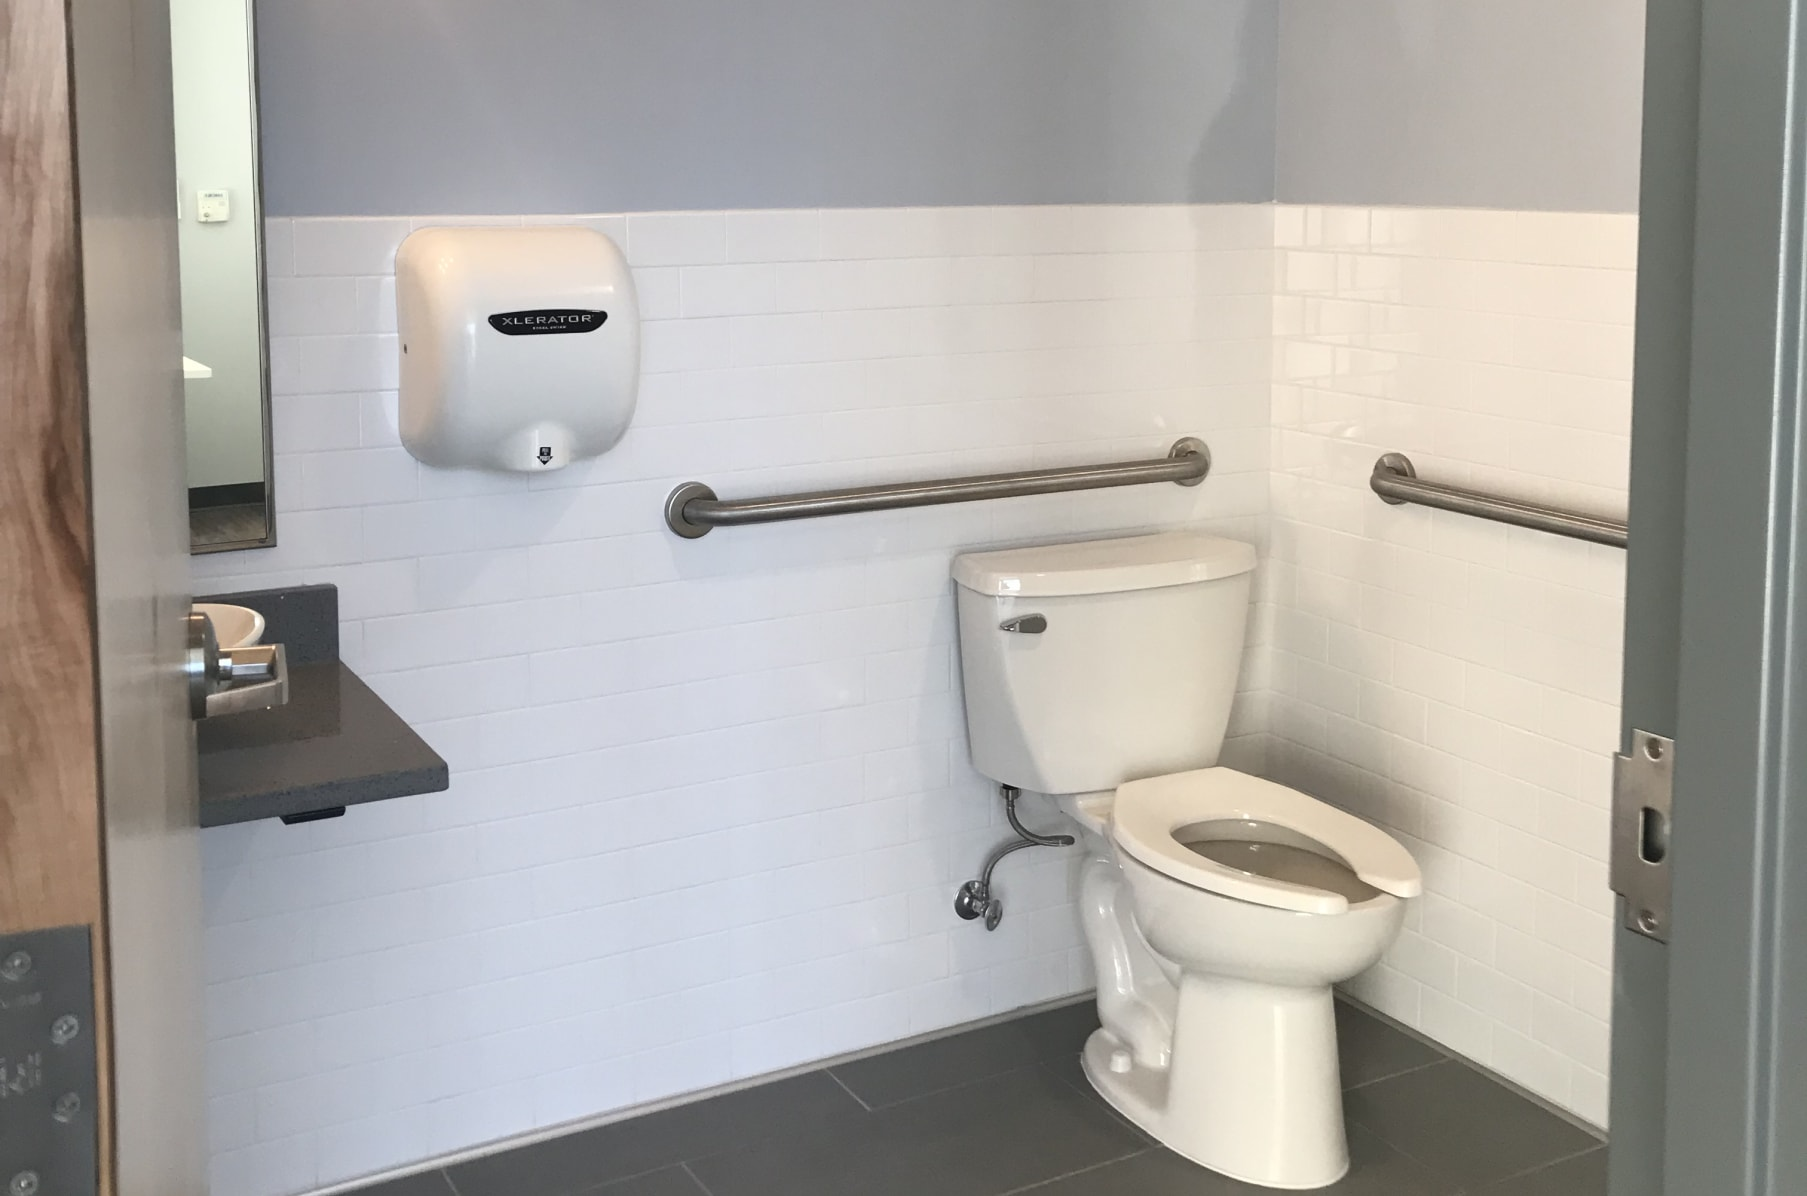door_handle: (186, 642, 290, 722)
restroom_assist_bar: (665, 434, 1214, 541), (1365, 451, 1628, 549)
sink: (190, 599, 272, 649)
toilet: (948, 530, 1423, 1189)
toilet_handle: (996, 611, 1049, 638)
